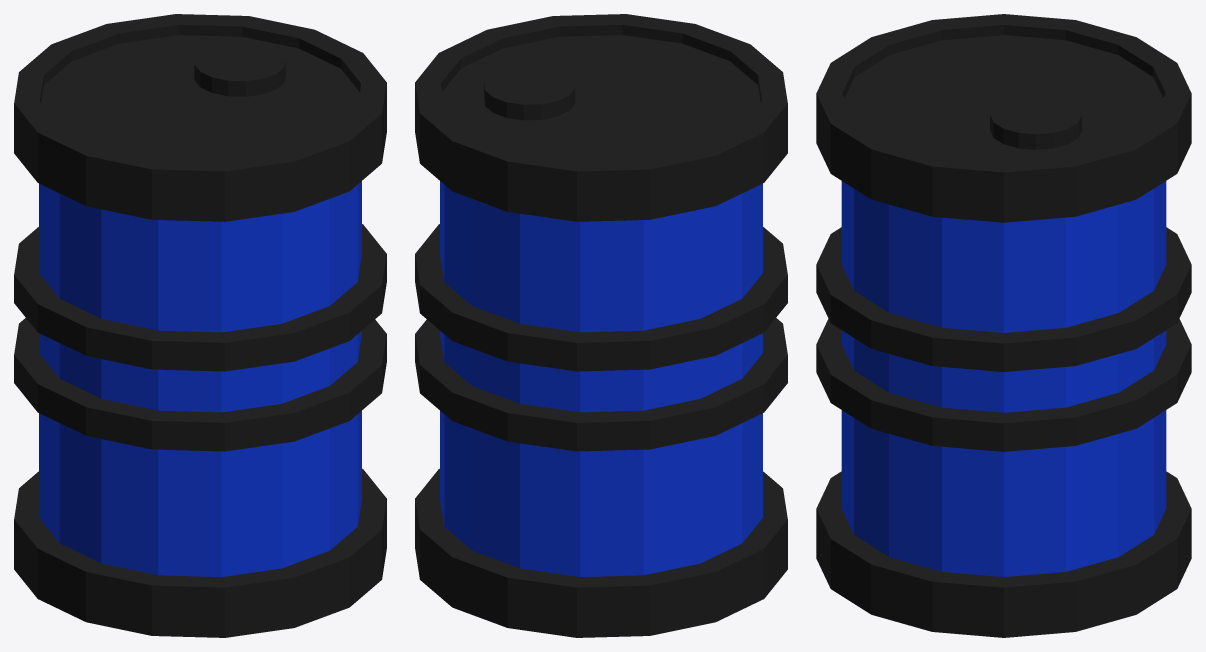
Rendered from barrel.fbx.
3 renders of one model, left to right at view 1: azimuth 30°, elevation 25°; view 2: azimuth 150°, elevation 25°; view 3: azimuth 270°, elevation 25°, orthographic.
Parts seen in each view (by area): view 1: Cylinder.001; view 2: Cylinder.001; view 3: Cylinder.001.
Part boxes in pixels (bbox=[...]): Cylinder.001: bbox=[14, 14, 386, 637]; Cylinder.001: bbox=[415, 14, 787, 637]; Cylinder.001: bbox=[816, 14, 1191, 637].
Size of the model in its own units: 62.7 by 62.7 by 86.84.
